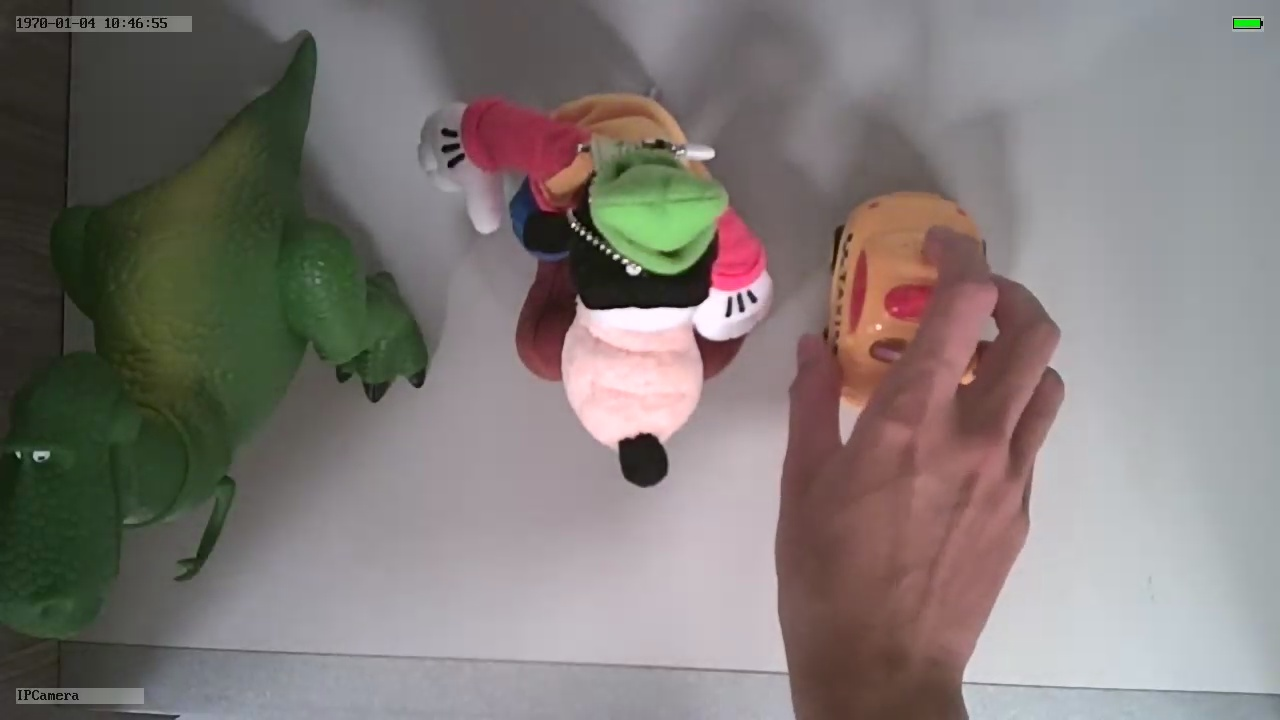goofy: (418, 87, 775, 487)
rex: (1, 147, 427, 641)
